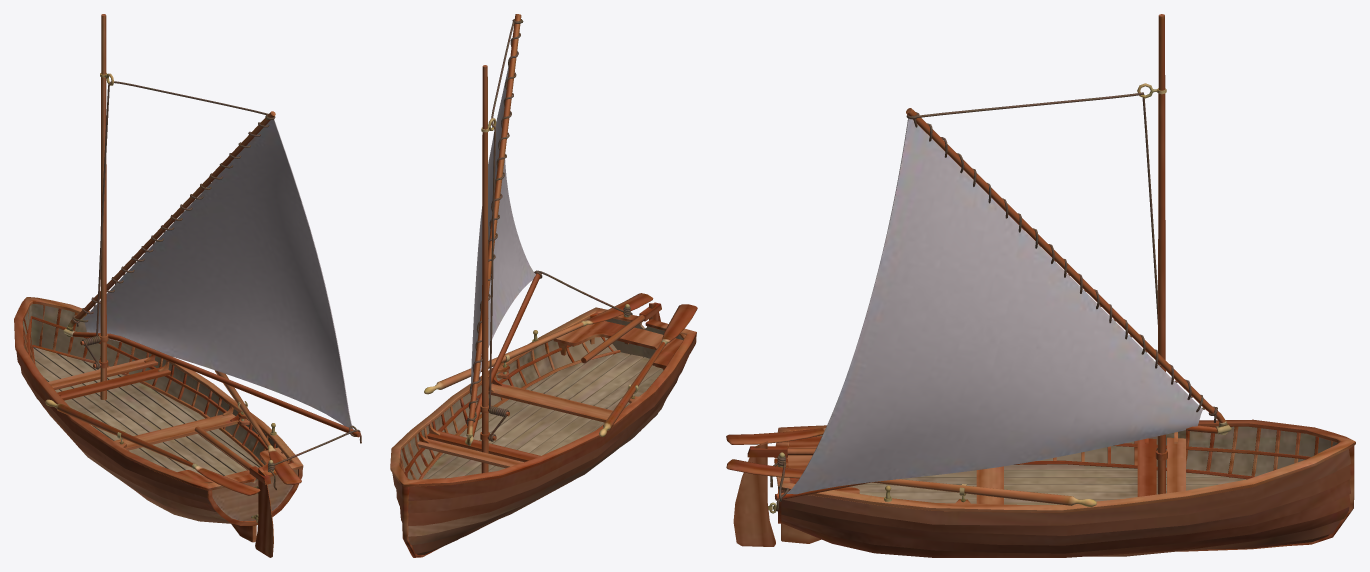
The model's file is boat_sail.glb.
3 renders of one model, left to right at view 1: azimuth 30°, elevation 25°; view 2: azimuth 150°, elevation 25°; view 3: azimuth 270°, elevation 25°, orthographic. The views are drawn at different scales.
Parts seen in each view (by area): view 1: Plane.004; view 2: Plane.004; view 3: Plane.004.
Part boxes in pixels (bbox=[...]): Plane.004: bbox=[14, 14, 361, 557]; Plane.004: bbox=[390, 14, 697, 557]; Plane.004: bbox=[726, 14, 1355, 557].
Size of the model in its own units: 3790 by 8045 by 8587.
Materials: 1 (1 with a texture image).
